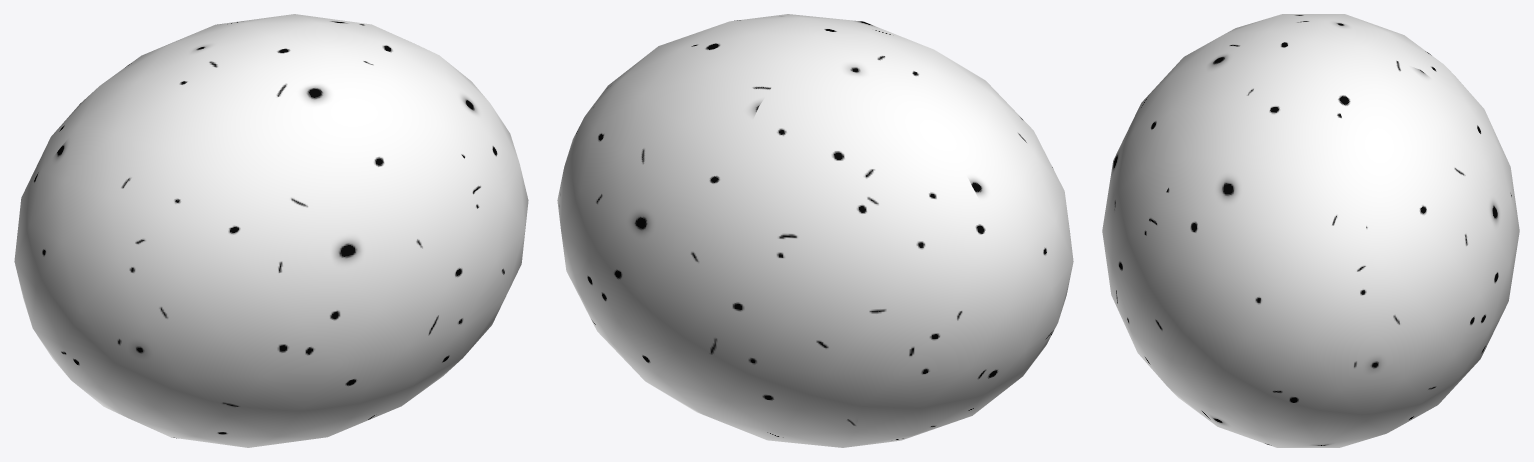
The model's file is ARotafour 1.fbx.
3 renders of one model, left to right at view 1: azimuth 30°, elevation 25°; view 2: azimuth 150°, elevation 25°; view 3: azimuth 270°, elevation 25°, orthographic. The views are drawn at different scales.
Visible parts, largest first — view 1: Icosphere; view 2: Icosphere; view 3: Icosphere.
Part boxes in pixels (<box>): Icosphere: <box>14,14,528,447</box>; Icosphere: <box>557,14,1073,447</box>; Icosphere: <box>1102,14,1519,447</box>.
Bounding box in the file's own units: 254 × 200 × 200.
1 material, 1 textured.
